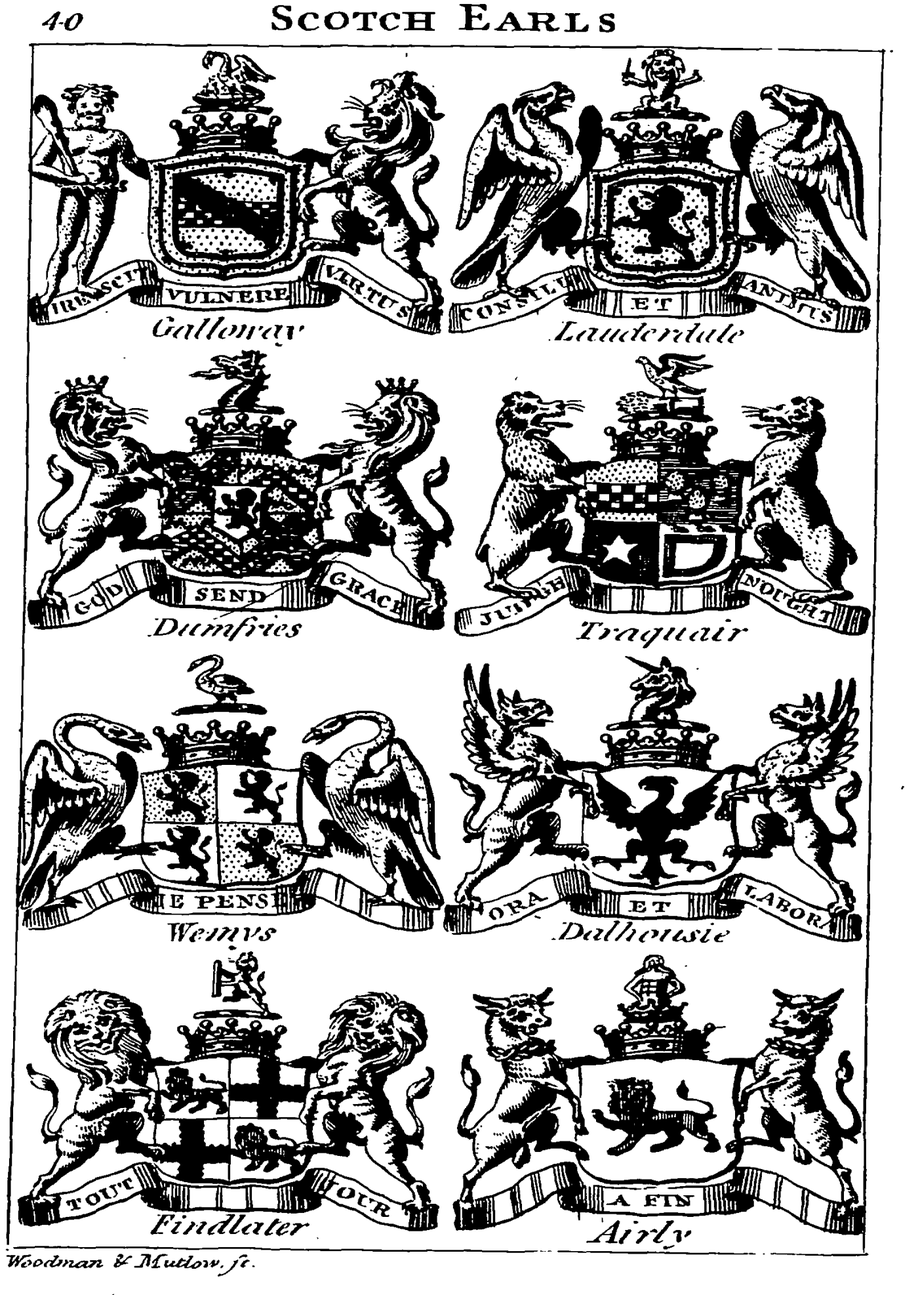coat_of_arms: (445, 345, 867, 651), (35, 45, 449, 352), (451, 654, 864, 956), (449, 956, 866, 1253), (35, 648, 443, 951), (452, 53, 871, 345), (37, 356, 449, 648), (30, 956, 433, 1244)
